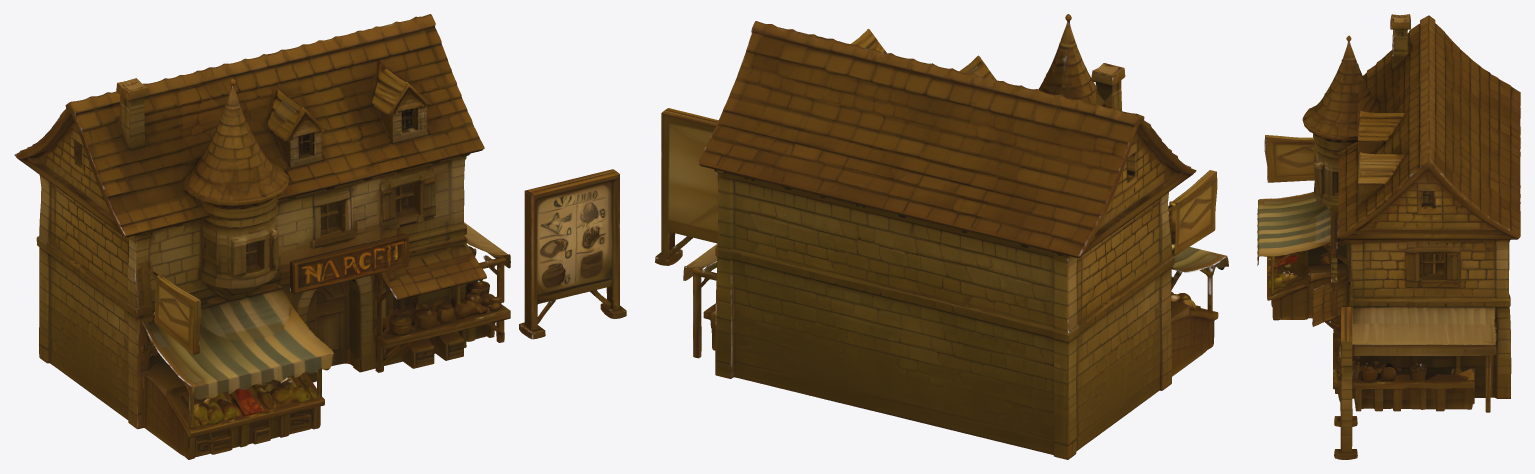
File: marketplace.glb
The picture shows the model from 3 angles, left to right: view 1: azimuth 30°, elevation 25°; view 2: azimuth 150°, elevation 25°; view 3: azimuth 270°, elevation 25°; orthographic projection. The views are drawn at different scales.
Parts seen in each view (by area): view 1: geometry_0; view 2: geometry_0; view 3: geometry_0.
Part boxes in pixels (left/top/right/bottom): geometry_0: left=14, top=14, right=626, bottom=459; geometry_0: left=655, top=14, right=1228, bottom=459; geometry_0: left=1257, top=14, right=1520, bottom=459.
Bounding box in the file's own units: 1.89 × 1.18 × 1.05.
1 material, 1 textured.
